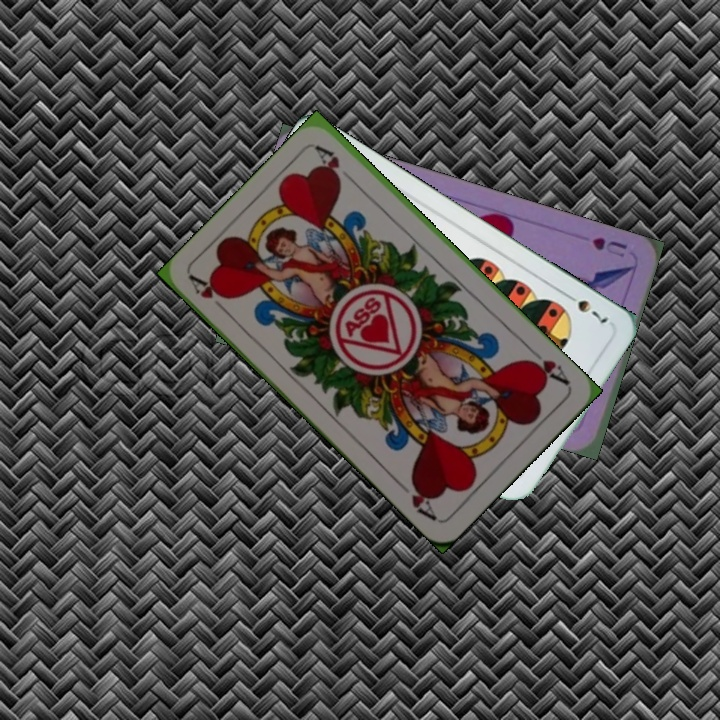HA: (186, 272, 234, 319), (522, 343, 572, 388)
HU: (588, 233, 630, 260)
S7: (560, 288, 611, 330)
